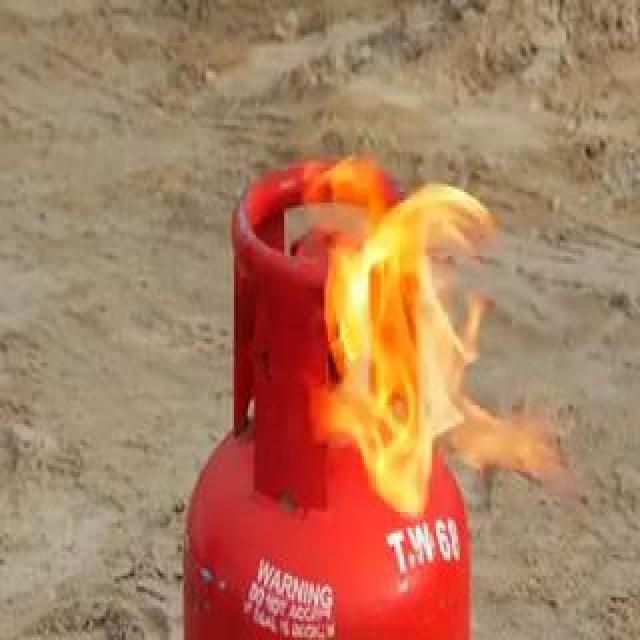Fire: (240, 102, 552, 510)
